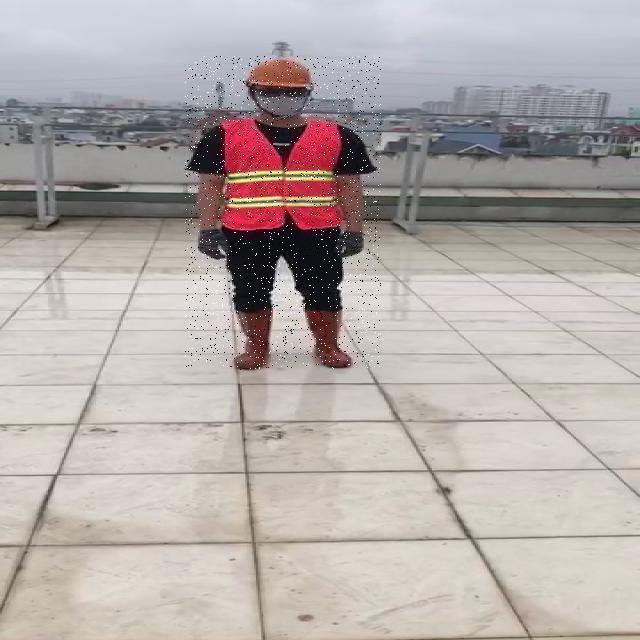gloves: (197, 230, 230, 260), (334, 233, 364, 258)
goggles: (254, 86, 311, 99)
helmet: (245, 59, 315, 89)
safety_vest: (218, 118, 340, 230)
